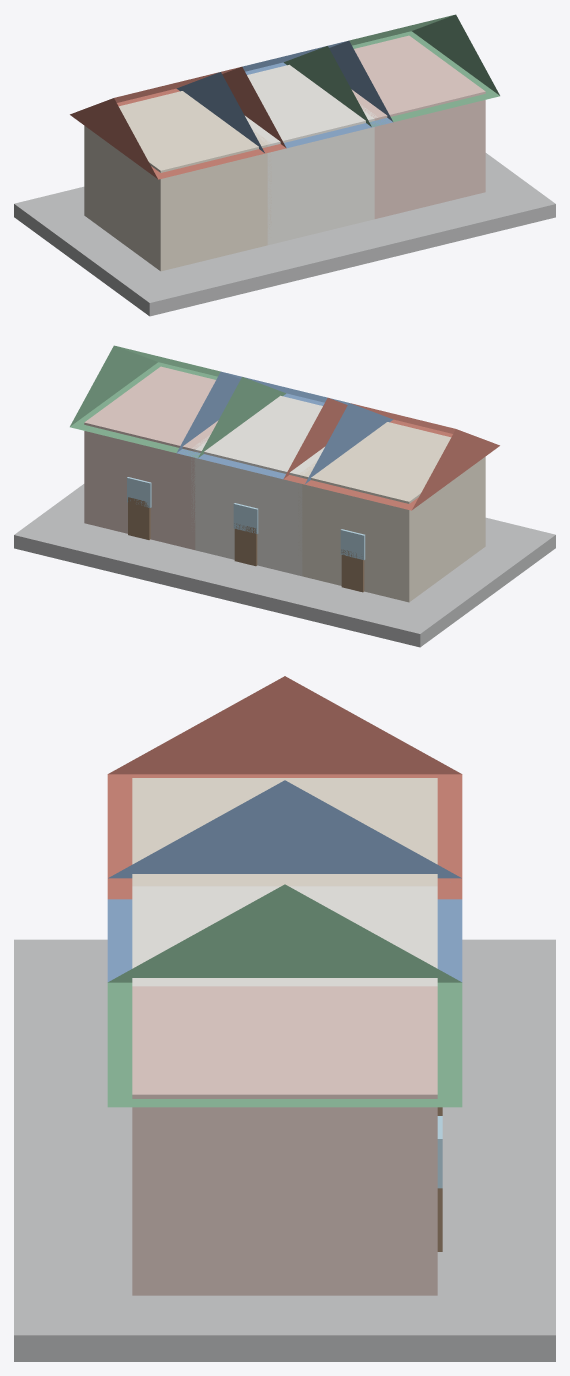
File: house_row.glb
3 renders of one model, top to bottom at view 1: azimuth 30°, elevation 25°; view 2: azimuth 150°, elevation 25°; view 3: azimuth 270°, elevation 25°, orthographic. The views are drawn at different scales.
Visible parts, largest first — view 1: plot, unit_body_0, unit_body_2, unit_body_1, unit_roof_2, unit_roof_0, unit_roof_1; view 2: plot, unit_body_0, unit_body_2, unit_body_1, unit_roof_2, unit_roof_0, unit_roof_1, unit_door_1, unit_door_2, unit_door_0, unit_window_0, unit_window_1 (+1 smaller); view 3: plot, unit_body_2, unit_roof_2, unit_roof_0, unit_roof_1, unit_body_0, unit_body_1.
Boxes of the visible parts, x1,y1,x2,y2 form: plot: (14,153,555,316); unit_body_0: (84,91,271,271); unit_body_2: (351,35,485,218); unit_body_1: (245,64,377,245); unit_roof_2: (283,14,499,126); unit_roof_0: (70,66,286,179); unit_roof_1: (176,40,393,152); plot: (14,484,555,647); unit_body_0: (298,422,485,602); unit_body_2: (84,366,218,549); unit_body_1: (191,395,324,576); unit_roof_2: (70,345,286,457); unit_roof_0: (283,398,499,510); unit_roof_1: (176,371,393,483); unit_door_1: (234,523,257,566); unit_door_2: (128,497,150,539); unit_door_0: (341,549,364,592); unit_window_0: (340,529,365,559); unit_window_1: (233,503,258,533); plot: (14,939,555,1361); unit_body_2: (132,986,437,1295); unit_roof_2: (107,884,462,1107); unit_roof_0: (107,676,462,899); unit_roof_1: (107,780,462,981); unit_body_0: (132,778,437,886); unit_body_1: (132,886,437,986).
Size of the model in its own units: 1.9 by 0.72 by 1.1.
